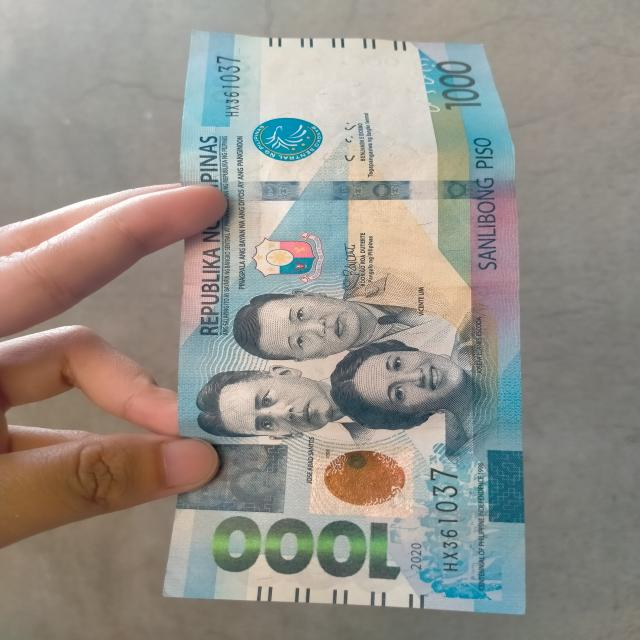concealed_value: (173, 443, 293, 516)
optically_variable_device: (309, 440, 420, 520)
security_thread: (182, 177, 516, 203)
see_through_mark: (396, 47, 450, 125)
serial_number: (421, 458, 469, 580), (206, 45, 251, 126)
watermark: (257, 52, 422, 128)
